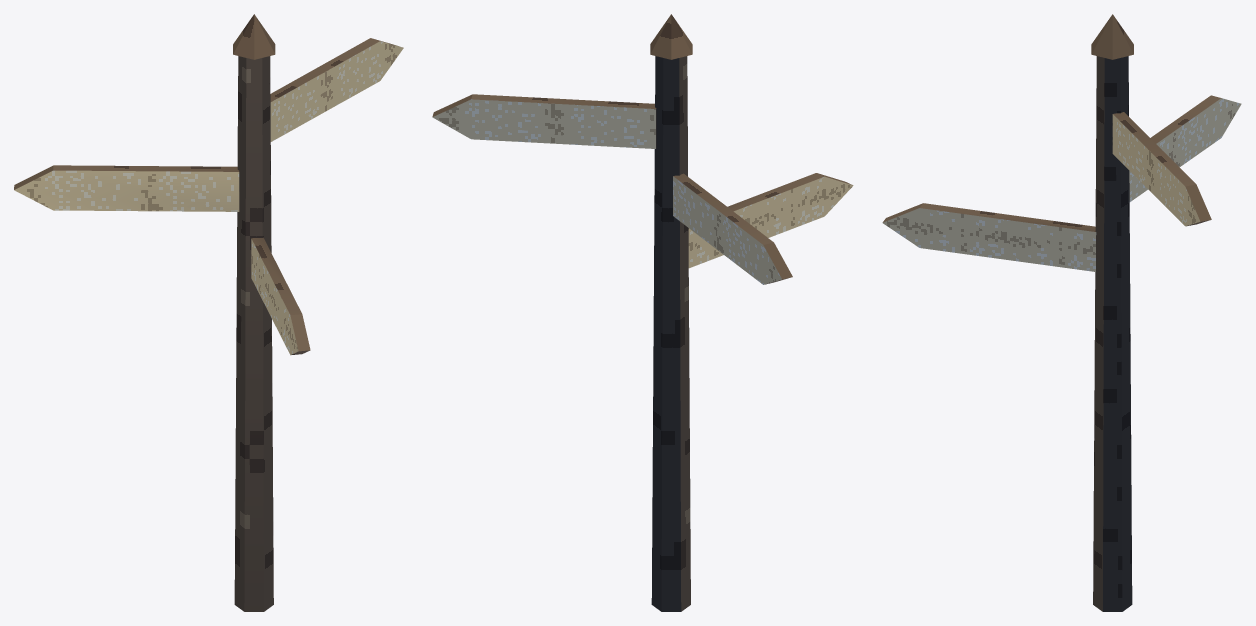
File: mprop.signpost.glb
3 renders of one model, left to right at view 1: azimuth 30°, elevation 25°; view 2: azimuth 150°, elevation 25°; view 3: azimuth 270°, elevation 25°, orthographic.
Parts seen in each view (by area): view 1: kit_post, kit_boards; view 2: kit_post, kit_boards; view 3: kit_post, kit_boards.
Boxes of the visible parts, left/top/right/bottom form: kit_post: left=233, top=14, right=275, bottom=611; kit_boards: left=14, top=38, right=403, bottom=355; kit_post: left=650, top=14, right=692, bottom=611; kit_boards: left=432, top=94, right=853, bottom=284; kit_post: left=1091, top=14, right=1133, bottom=611; kit_boards: left=882, top=95, right=1241, bottom=271.
Size of the model in its own units: 1.77 by 2.66 by 1.47.
Materials: 2 (2 with a texture image).
